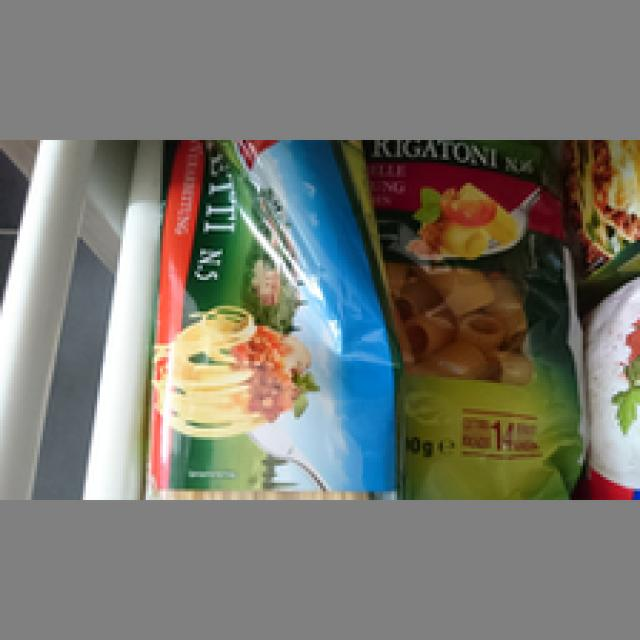groceries: (146, 140, 403, 497), (363, 140, 583, 494)
